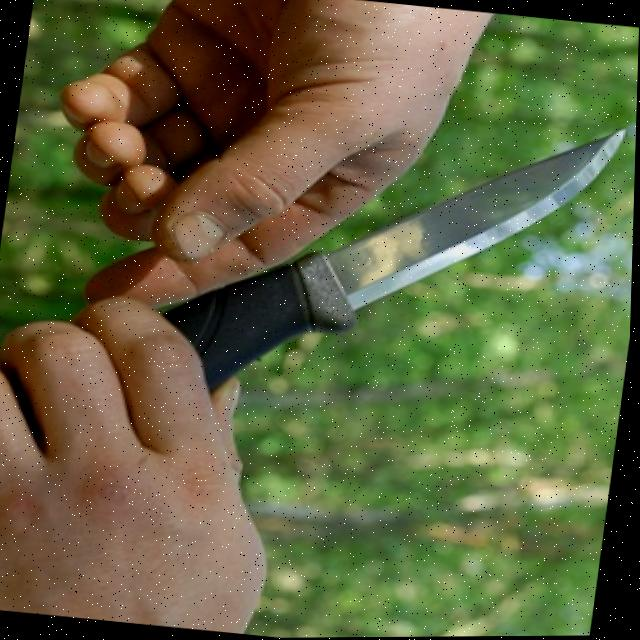knife: (206, 86, 629, 430)
